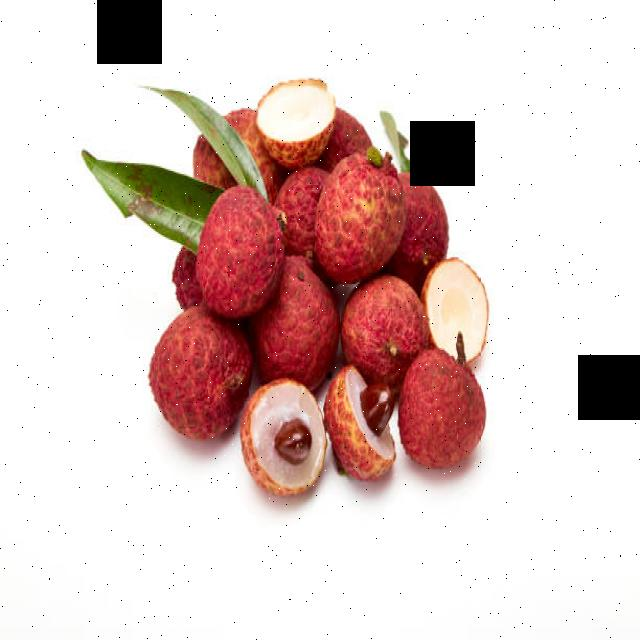lychee: (173, 110, 503, 499)
